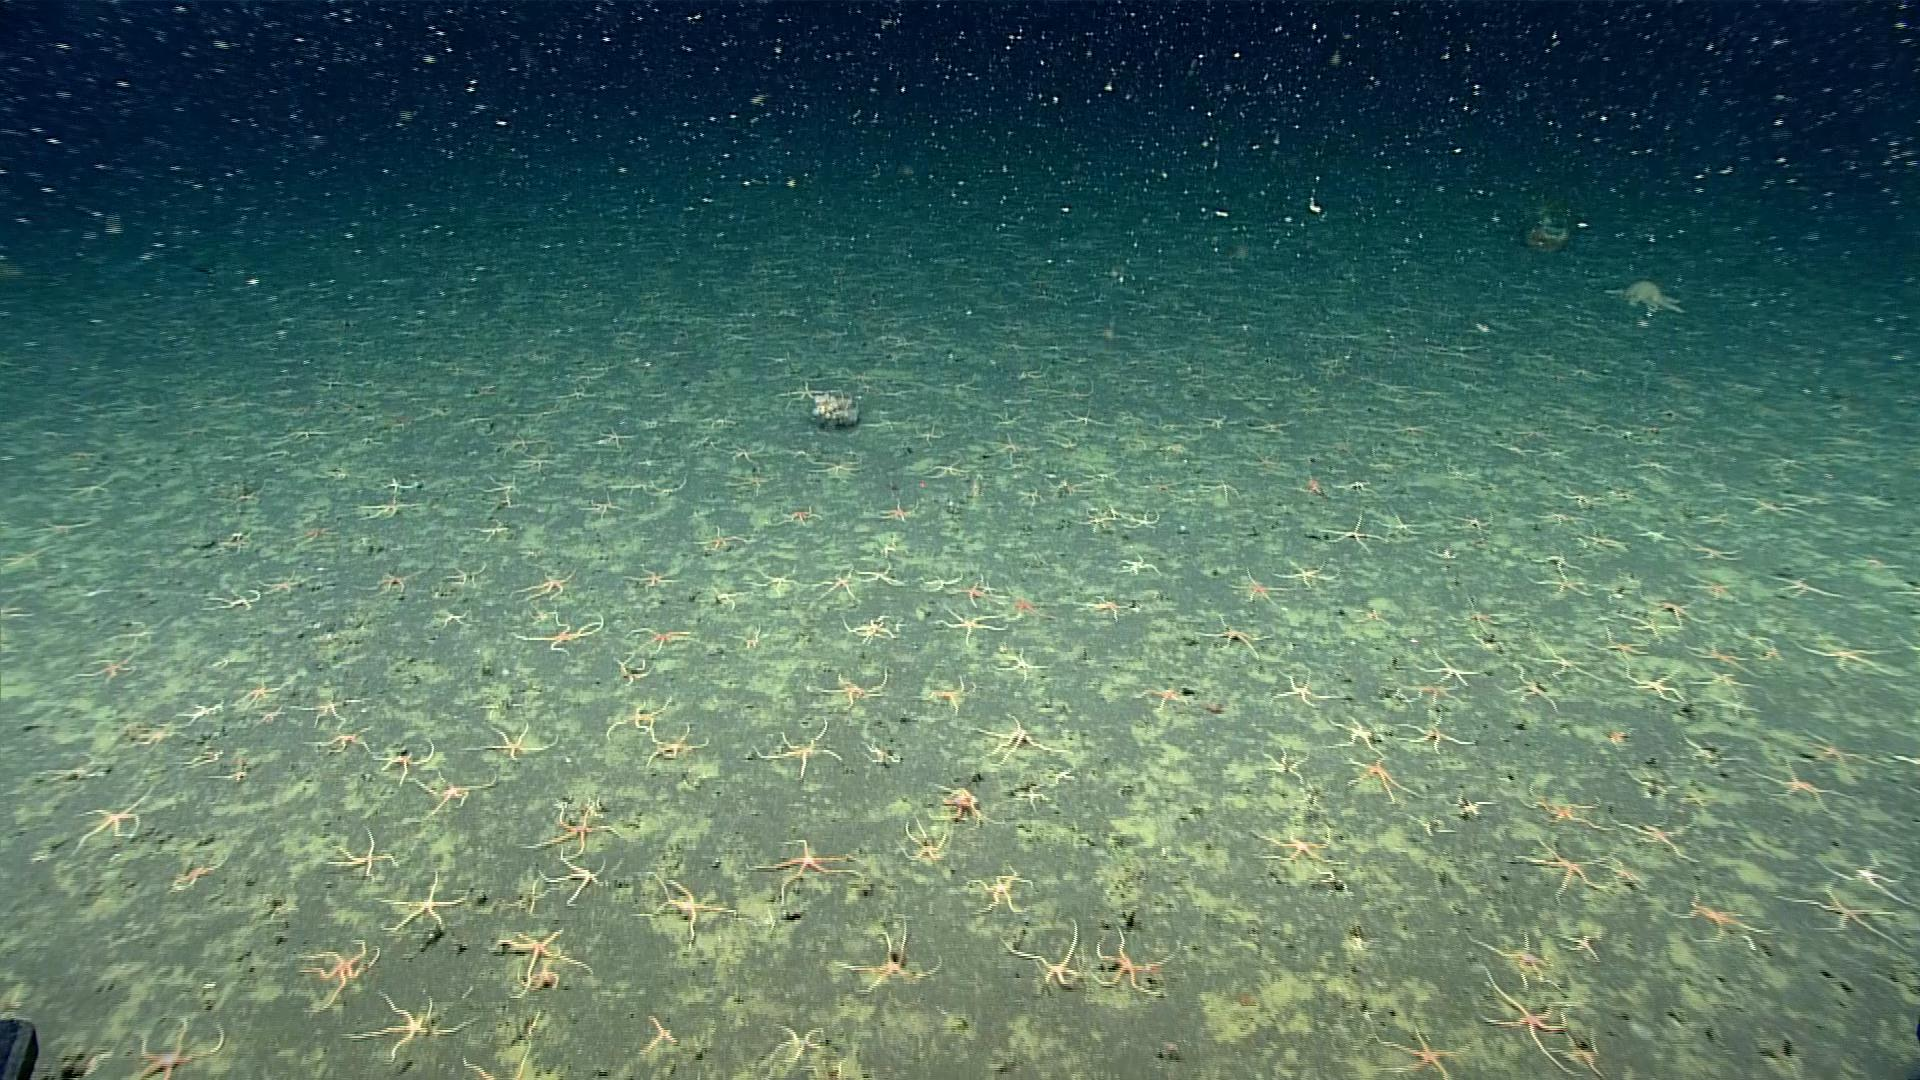brittle_sea_star: (1477, 964, 1578, 1071), (340, 989, 476, 1067), (828, 923, 947, 996), (1793, 881, 1915, 948), (1663, 884, 1772, 955), (633, 869, 740, 942), (748, 835, 864, 901), (491, 926, 589, 1001), (293, 934, 381, 1011), (1510, 832, 1613, 897), (67, 786, 160, 857), (1091, 918, 1179, 992), (1466, 926, 1564, 989), (375, 874, 472, 938), (132, 1018, 231, 1079), (516, 796, 613, 857), (1747, 750, 1842, 812), (1007, 919, 1087, 989), (1817, 843, 1905, 902), (1375, 1019, 1462, 1079), (1792, 630, 1900, 678), (512, 612, 613, 661), (401, 767, 498, 818), (538, 844, 611, 911), (467, 717, 556, 771), (1613, 811, 1702, 864), (757, 723, 841, 777), (807, 667, 887, 724), (1523, 638, 1609, 688), (969, 716, 1052, 765), (328, 825, 396, 885), (1513, 782, 1596, 829), (757, 1019, 839, 1067), (1255, 819, 1332, 869), (964, 869, 1035, 919), (932, 600, 1017, 642), (1389, 715, 1470, 757), (1340, 749, 1410, 798), (1265, 669, 1338, 715), (601, 696, 673, 744), (1410, 649, 1486, 691), (289, 688, 365, 731), (1317, 508, 1385, 555), (1193, 618, 1269, 659), (167, 852, 231, 898), (302, 721, 381, 758), (1527, 560, 1598, 601), (1762, 570, 1842, 604), (641, 721, 705, 764), (373, 741, 436, 782), (1230, 567, 1291, 609), (1499, 665, 1556, 709), (78, 647, 142, 686), (898, 820, 951, 866), (1, 700, 69, 736), (621, 624, 699, 654), (1625, 666, 1688, 702), (355, 489, 422, 522), (914, 674, 969, 713), (1593, 628, 1652, 665), (512, 568, 575, 603), (1276, 558, 1344, 589), (128, 716, 186, 752), (939, 782, 989, 823), (808, 564, 858, 605), (175, 695, 235, 729), (1452, 599, 1509, 634), (841, 615, 907, 645), (746, 562, 800, 599), (1695, 666, 1762, 695), (1681, 579, 1747, 608), (1329, 716, 1385, 750), (1623, 611, 1685, 641), (1134, 682, 1199, 711), (235, 676, 289, 711), (359, 566, 419, 596), (993, 646, 1047, 679), (622, 562, 682, 591), (429, 600, 480, 633), (637, 1014, 678, 1055), (443, 558, 496, 589), (479, 472, 525, 508), (612, 647, 653, 687), (203, 587, 261, 615), (175, 740, 225, 771), (208, 765, 261, 791), (1075, 595, 1130, 620), (688, 526, 742, 551), (578, 493, 626, 518), (256, 574, 307, 597), (856, 560, 902, 587), (877, 495, 920, 522), (1580, 533, 1630, 555), (253, 703, 290, 733), (1121, 508, 1163, 534), (1718, 695, 1762, 720), (295, 522, 347, 543), (1118, 553, 1159, 578), (1075, 509, 1116, 534), (781, 502, 819, 529), (957, 583, 997, 608), (1451, 510, 1489, 534), (1018, 485, 1047, 510), (922, 575, 957, 595)
